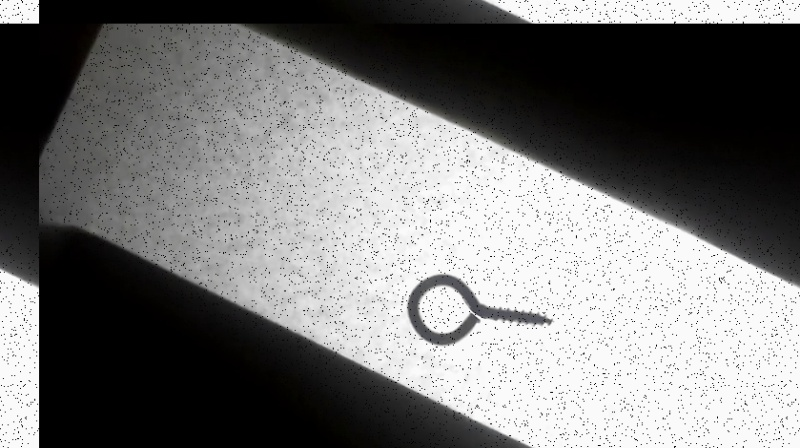O001: (400, 271, 559, 348)
